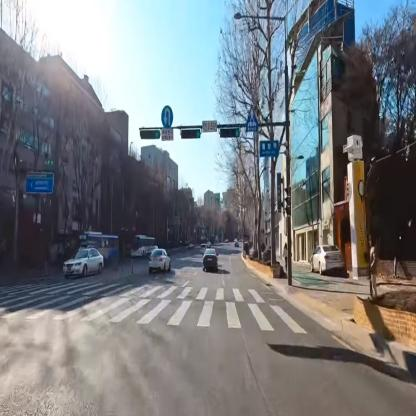Green: (180, 127, 201, 141), (138, 128, 160, 141), (219, 128, 241, 138)
